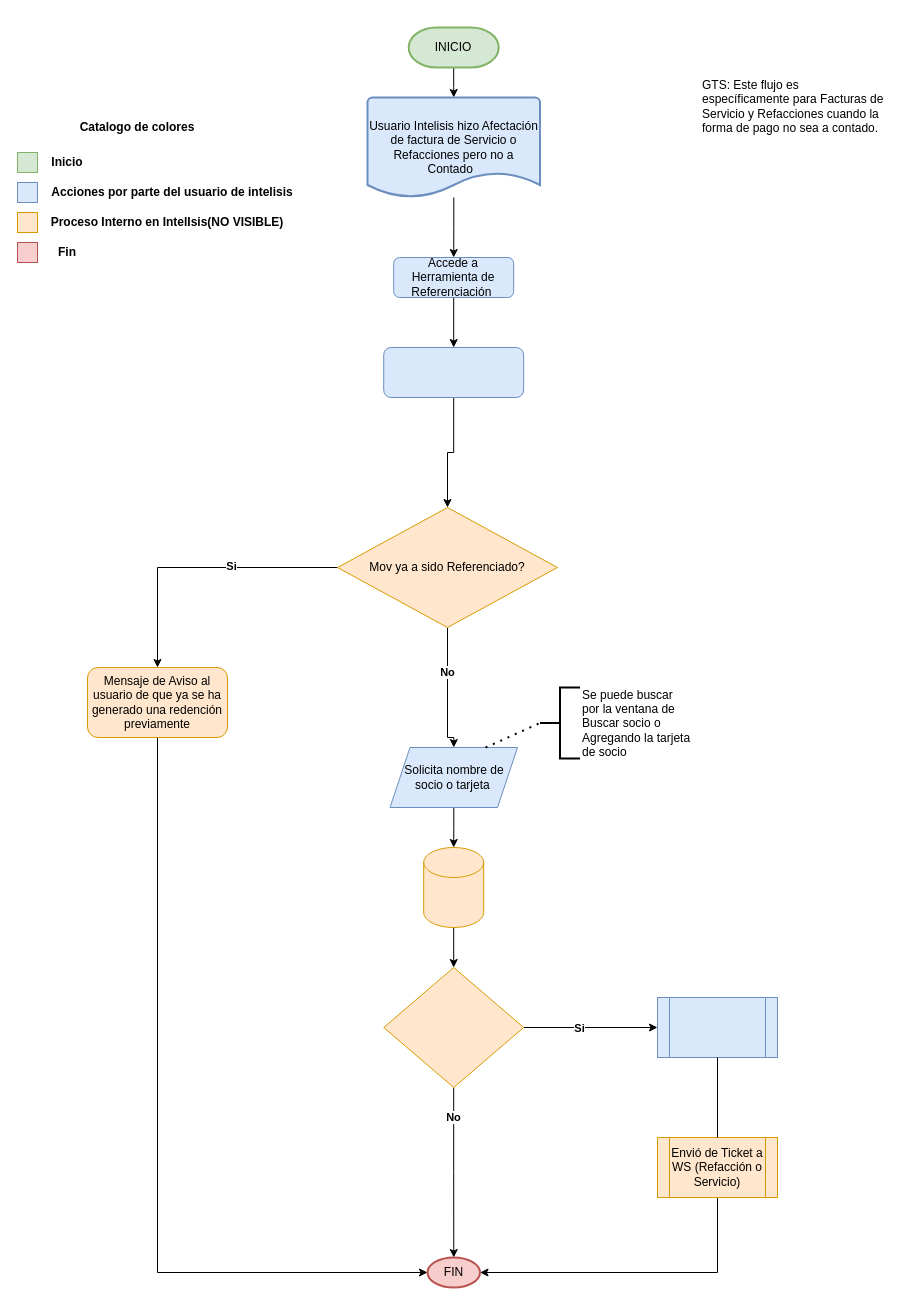
The diagram is 905 pixels wide and 1305 high, and some of its shapes have lost their labels. The shapes that lost their labels are listed below. From the top down, each one's box as (x1, y1, x2, y2) in pixels, then its label:
(383, 346, 524, 398): Seleccionana Movimiento Especifico y Referencia
(423, 846, 484, 928): Se busca en socios Farrera
(383, 966, 524, 1088): Socio encontrado en Farrera Premium
(656, 996, 778, 1058): Clic en Botón Referenciar
